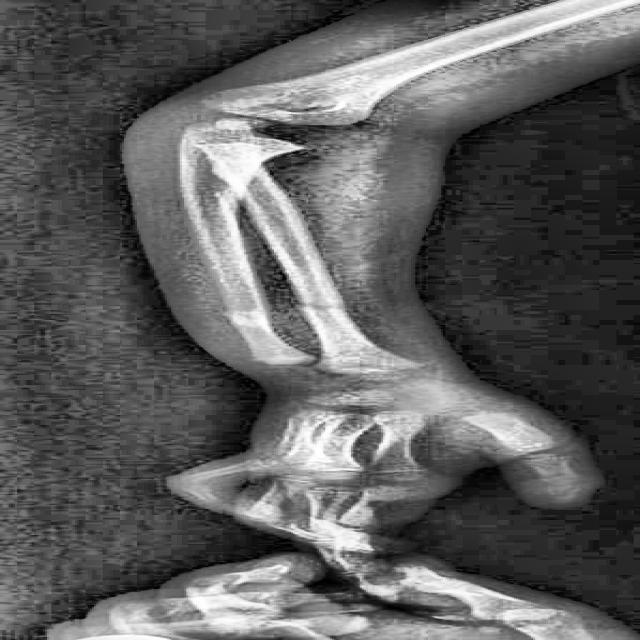line: (218, 307, 272, 327), (289, 298, 353, 312)
